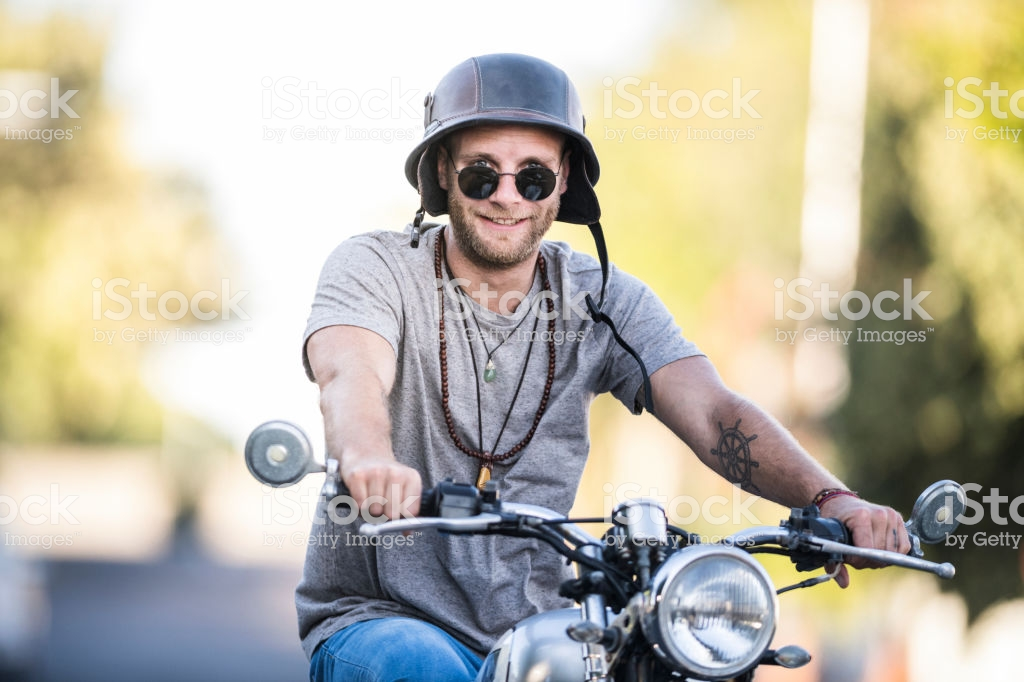helmet: (411, 36, 611, 181)
